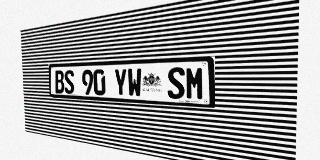0: (93, 69, 105, 95)
9: (82, 69, 93, 95)
B: (54, 70, 64, 94)
M: (185, 66, 204, 100)
S: (167, 67, 185, 99), (64, 70, 74, 94)
W: (127, 68, 142, 97)
Y: (114, 68, 127, 97)
